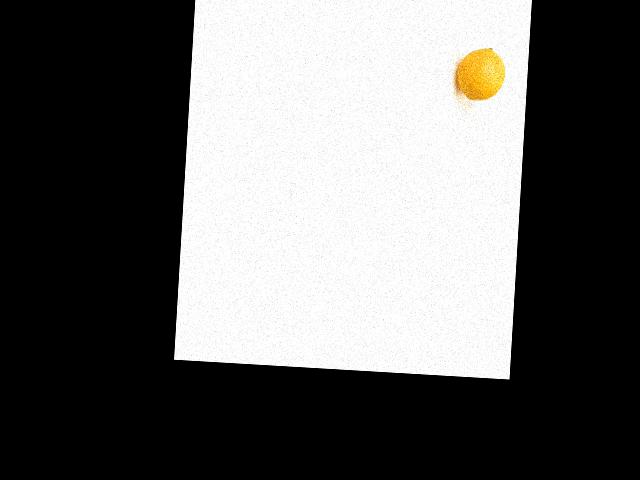lemon: (448, 45, 507, 108)
